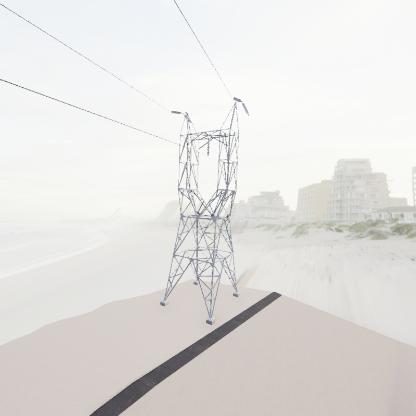tower: (159, 96, 251, 328)
